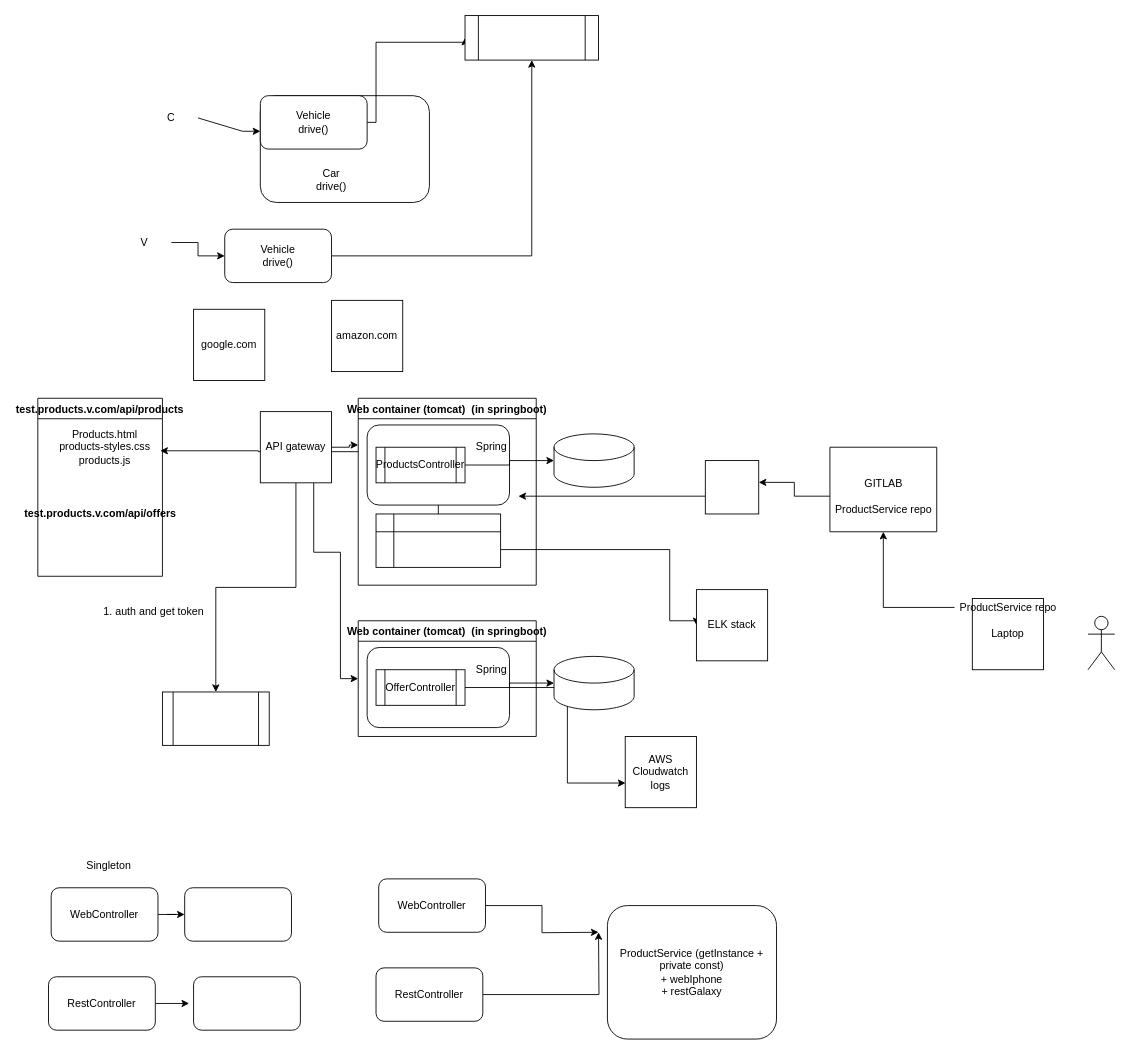
This 1130x1055 diagram has some shape labels left out. The centre of each missing label's shape, as x and y in pixels:
"Actor" belongs at point (1101, 642).
"cass" belongs at point (593, 460).
"CI/CD" belongs at point (731, 487).
"html css js" belongs at point (438, 540).
"OAuth" belongs at point (215, 718).
"Oracle" belongs at point (593, 682).
"ProductService + RestGalaxy" belongs at point (246, 1003).
"ProductService + webIphone" belongs at point (237, 914).
"static wheels = 10; methodOfVehicle()" belongs at point (531, 37).
